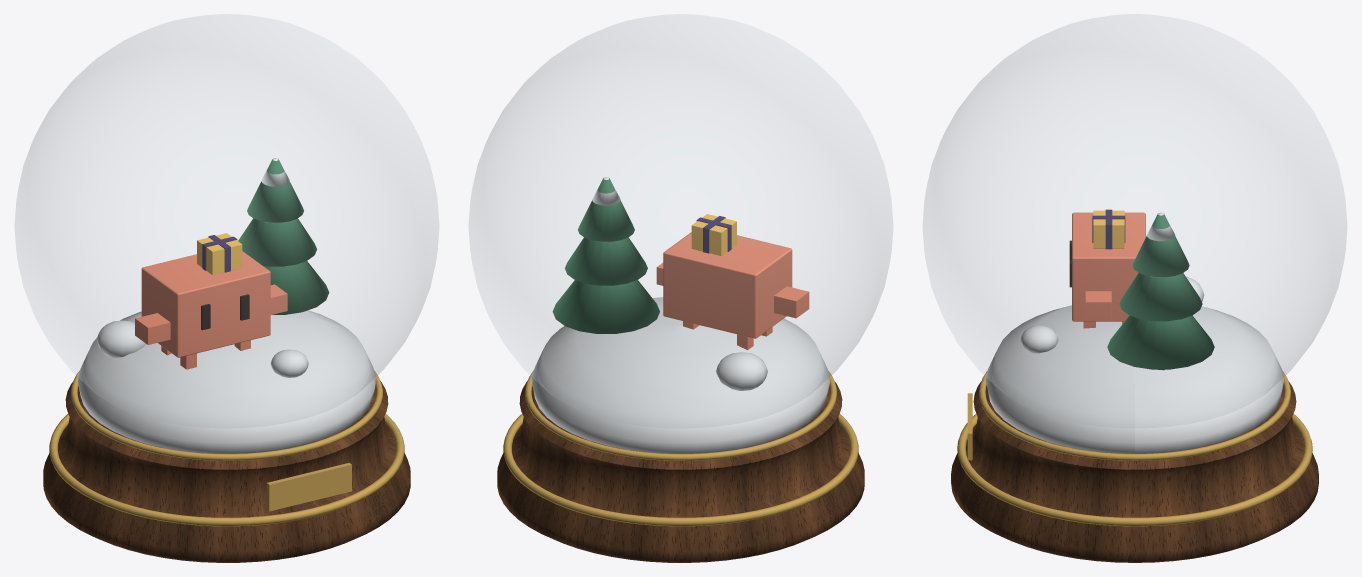
File: snowglobe.glb
3 renders of one model, left to right at view 1: azimuth 30°, elevation 25°; view 2: azimuth 150°, elevation 25°; view 3: azimuth 270°, elevation 25°, orthographic.
Parts seen in each view (by area): view 1: sg_glass, sg_base, sg_snow, sg_inside, sg_brass; view 2: sg_glass, sg_base, sg_snow, sg_inside, sg_brass; view 3: sg_glass, sg_base, sg_snow, sg_inside, sg_brass.
Part boxes in pixels (x1,y1,x2,y2): sg_glass: (14, 14, 439, 397); sg_base: (43, 381, 410, 562); sg_snow: (78, 310, 375, 453); sg_inside: (96, 158, 329, 377); sg_brass: (49, 370, 404, 526); sg_glass: (468, 14, 893, 397); sg_base: (497, 381, 864, 562); sg_snow: (532, 297, 829, 453); sg_inside: (552, 177, 809, 390); sg_brass: (503, 370, 858, 526); sg_glass: (923, 14, 1346, 397); sg_base: (951, 381, 1318, 562); sg_snow: (986, 305, 1283, 453); sg_inside: (1020, 209, 1214, 370); sg_brass: (957, 371, 1312, 526).
Bounding box in the file's own units: 0.49 × 0.58 × 0.49.
Materials: 10 (1 with a texture image).
